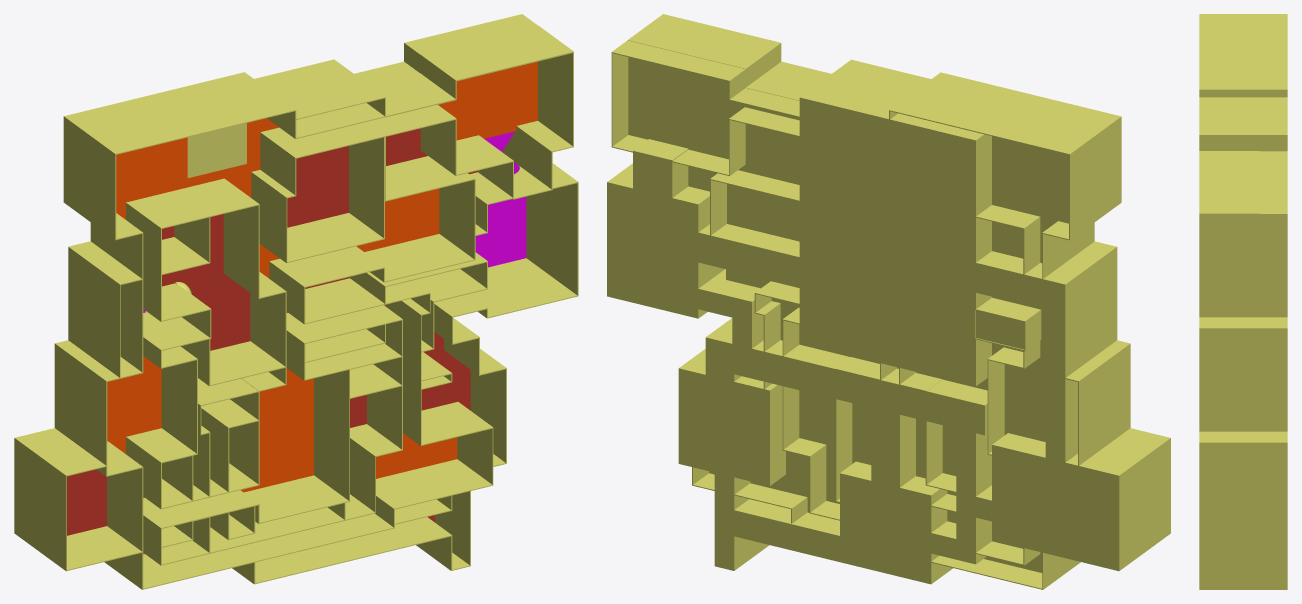
The model's file is Map1NoChar v57.fbx.
The picture shows the model from 3 angles, left to right: view 1: azimuth 30°, elevation 25°; view 2: azimuth 150°, elevation 25°; view 3: azimuth 270°, elevation 25°; orthographic projection. The views are drawn at different scales.
Visible parts, largest first — view 1: Ground Floor; view 2: Ground Floor; view 3: Ground Floor.
Part boxes in pixels (x1,y1,x2,y2): Ground Floor: (14,14,578,589); Ground Floor: (607,14,1170,589); Ground Floor: (1199,14,1287,589).
Size of the model in its own units: 57.2 by 53.23 by 10.
